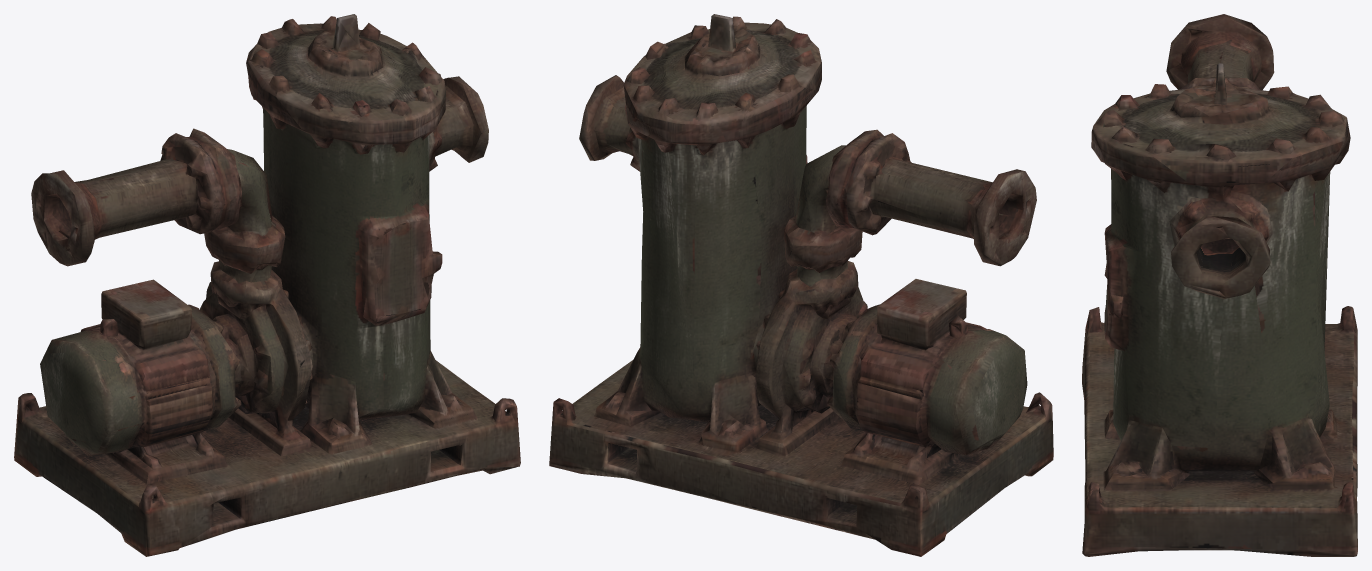
File: bunker_filtration_pump.glb
3 renders of one model, left to right at view 1: azimuth 30°, elevation 25°; view 2: azimuth 150°, elevation 25°; view 3: azimuth 270°, elevation 25°, orthographic. The views are drawn at different scales.
Parts seen in each view (by area): view 1: FiltrationPump; view 2: FiltrationPump; view 3: FiltrationPump.
Part boxes in pixels (x1,y1,x2,y2): FiltrationPump: [14, 14, 520, 556]; FiltrationPump: [549, 14, 1053, 556]; FiltrationPump: [1082, 14, 1357, 556].
Size of the model in its own units: 1.4 by 1.4 by 0.8.
1 material, 1 textured.
